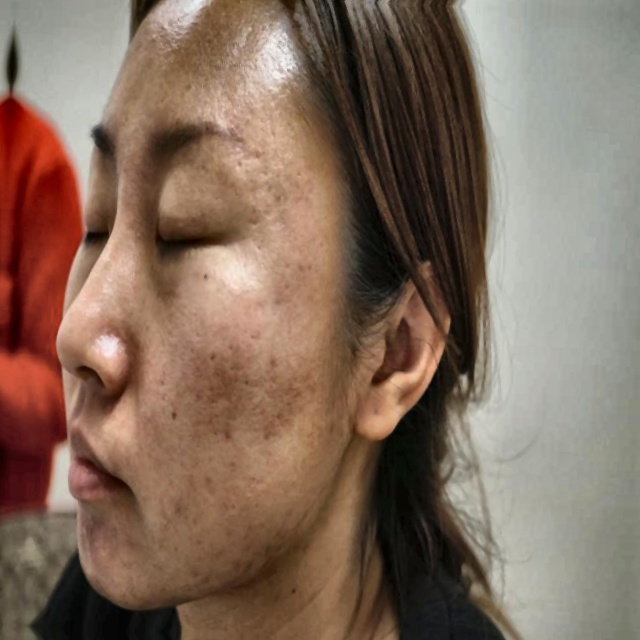comedone: (73, 519, 103, 553)
